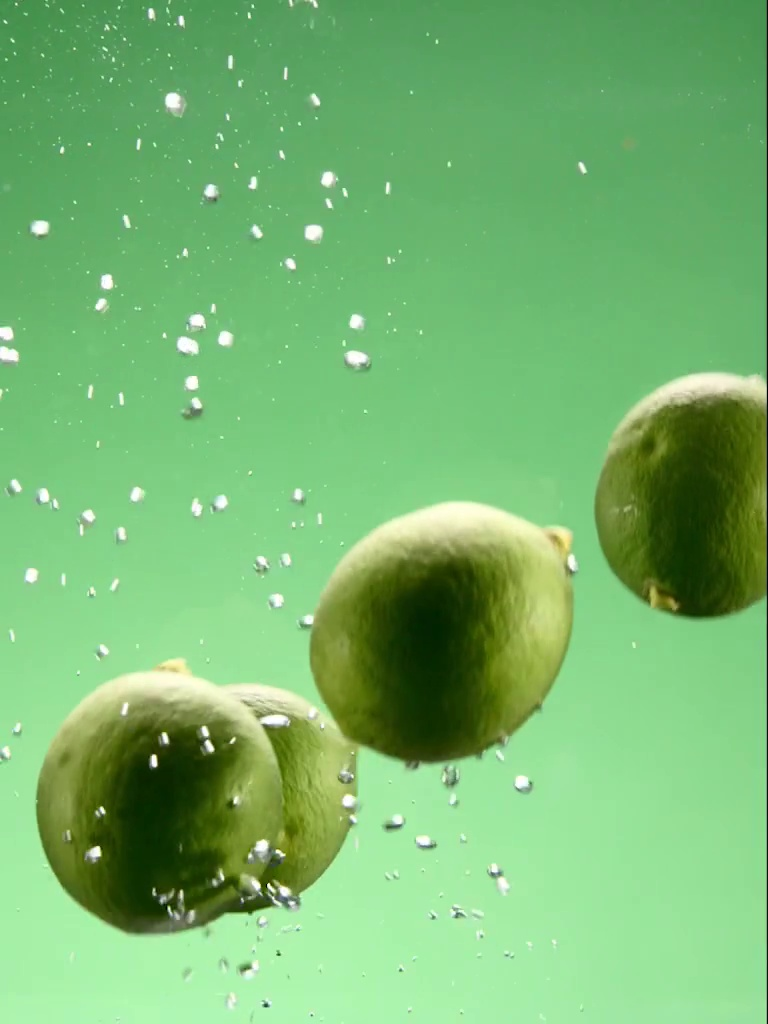Orange: (303, 496, 576, 765)
